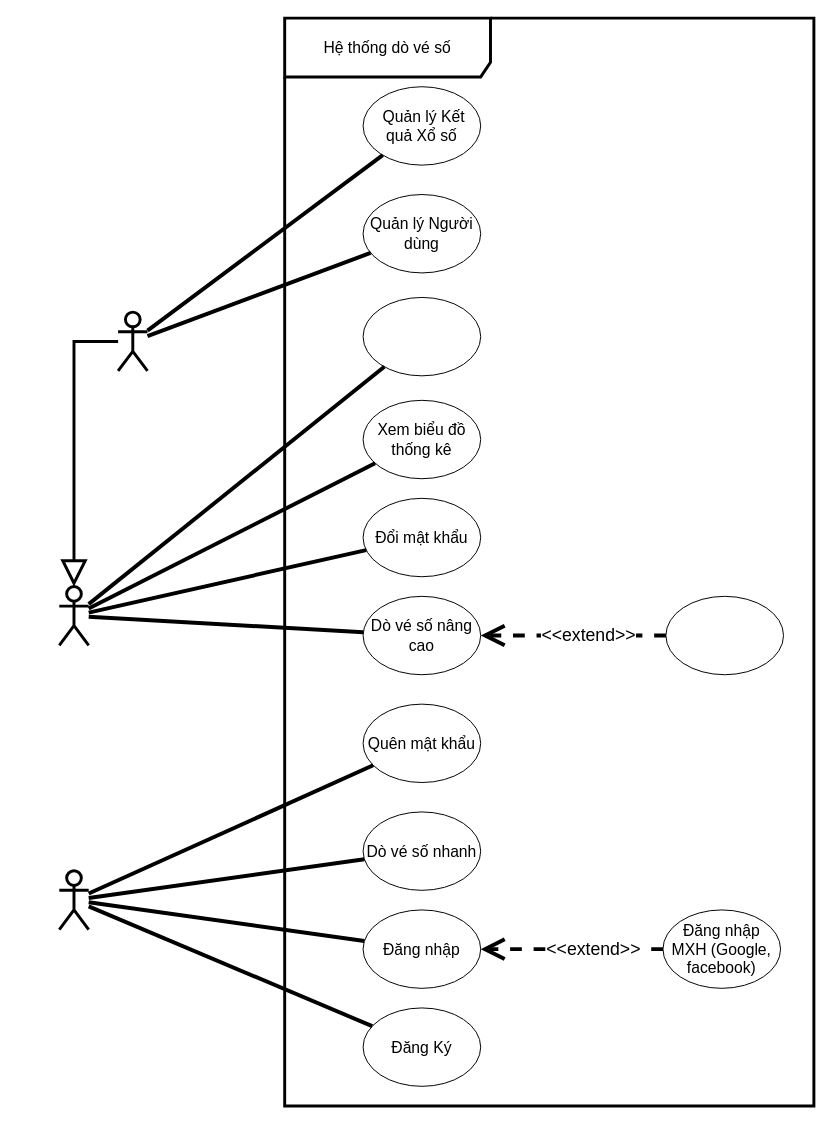
Some shapes in this 832 by 1124 pixel diagram are drawn without their labels. The centre of each missing label's shape, as x and y in pixels:
Administrator: pixel 132 341
Chia sẻ kết quả MXH: pixel 724 635
Guest: pixel 73 900
Registered User: pixel 73 615
Xem lịch sử dò vé: pixel 421 336
